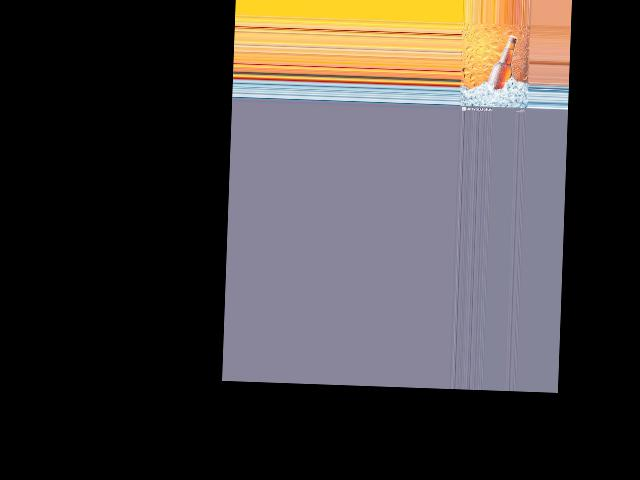beer: (488, 34, 519, 91)
